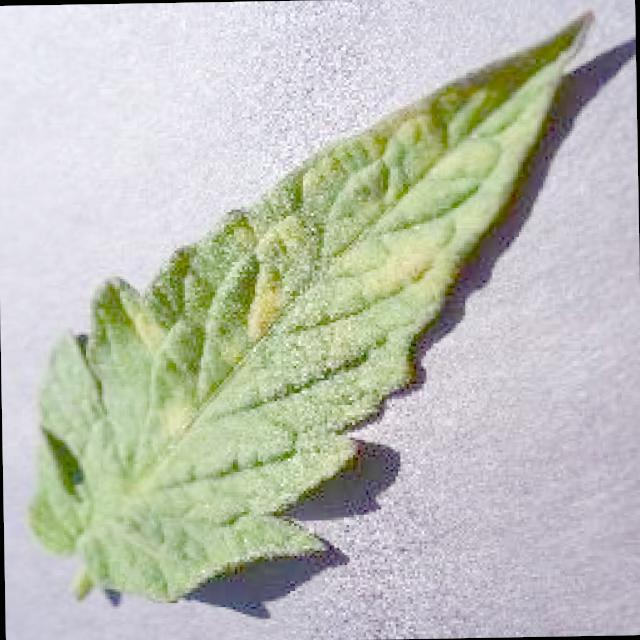Tomato mold leaf: (23, 5, 608, 605)
